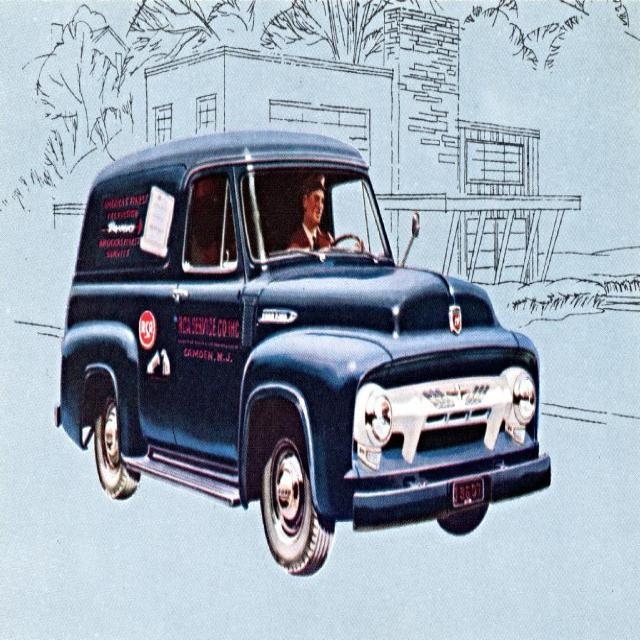car: (54, 131, 548, 573)
